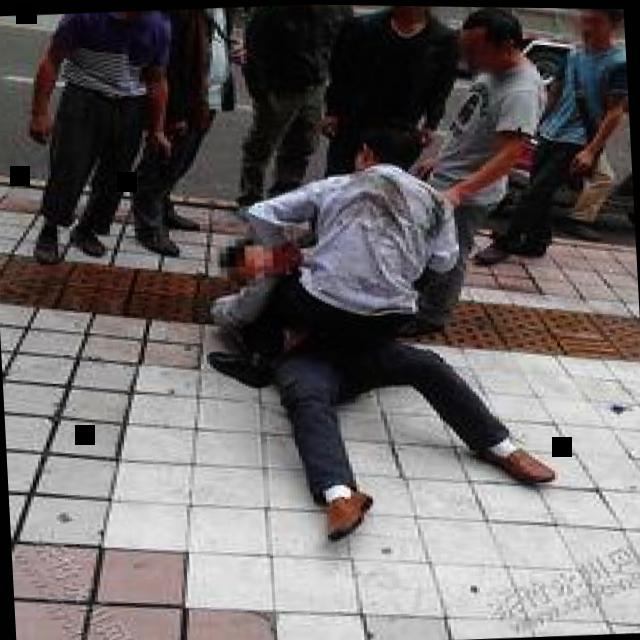Fall-Detected: (181, 139, 583, 560)
